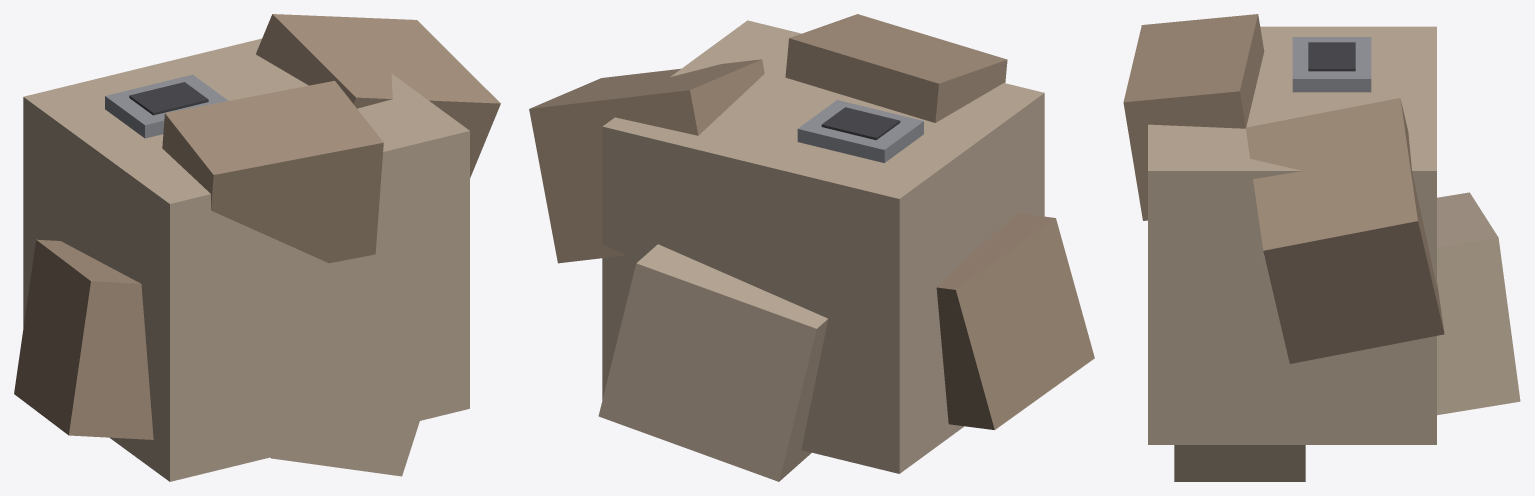
Rendered from asteroid.glb.
3 renders of one model, left to right at view 1: azimuth 30°, elevation 25°; view 2: azimuth 150°, elevation 25°; view 3: azimuth 270°, elevation 25°, orthographic.
Visible parts, largest first — view 1: Core, Lump4, Lump2, Lump1, Lump5, Crater1, CraterIn1; view 2: Core, Lump3, Lump2, Lump1, Lump4, Crater1, CraterIn1; view 3: Core, Lump1, Lump4, Lump3, Lump5, Crater1, CraterIn1.
Boxes of the visible parts, left/top/right/bottom form: Core: left=23, top=38, right=469, bottom=481; Lump4: left=162, top=80, right=383, bottom=263; Lump2: left=14, top=239, right=153, bottom=439; Lump1: left=256, top=14, right=500, bottom=177; Lump5: left=270, top=421, right=419, bottom=476; Crater1: left=105, top=74, right=228, bottom=138; CraterIn1: left=129, top=82, right=208, bottom=115; Core: left=602, top=20, right=1044, bottom=473; Lump3: left=598, top=244, right=828, bottom=481; Lump2: left=936, top=213, right=1094, bottom=429; Lump1: left=529, top=59, right=764, bottom=263; Lump4: left=785, top=14, right=1007, bottom=122; Crater1: left=797, top=100, right=923, bottom=162; CraterIn1: left=821, top=107, right=900, bottom=140; Core: left=1148, top=26, right=1436, bottom=444; Lump1: left=1246, top=98, right=1444, bottom=363; Lump4: left=1123, top=14, right=1264, bottom=220; Lump3: left=1437, top=192, right=1520, bottom=415; Lump5: left=1174, top=445, right=1305, bottom=481; Crater1: left=1292, top=37, right=1371, bottom=92; CraterIn1: left=1308, top=42, right=1355, bottom=71.
Size of the model in its own units: 2.02 by 1.58 by 1.51.
